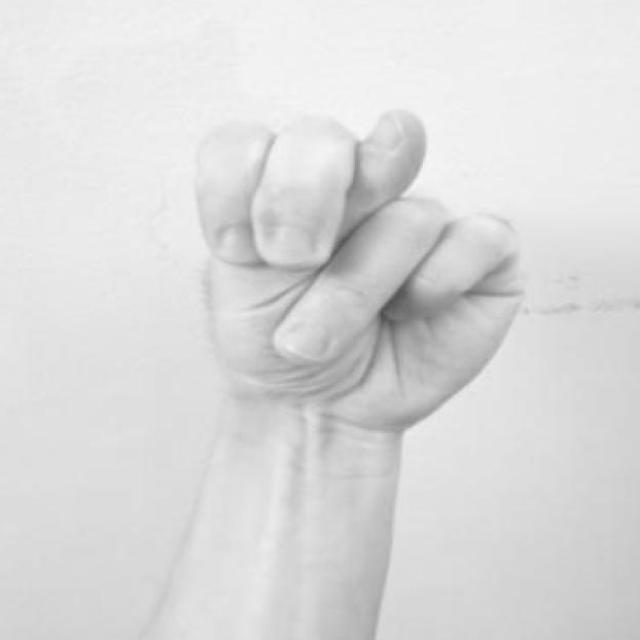N: (171, 94, 539, 453)
